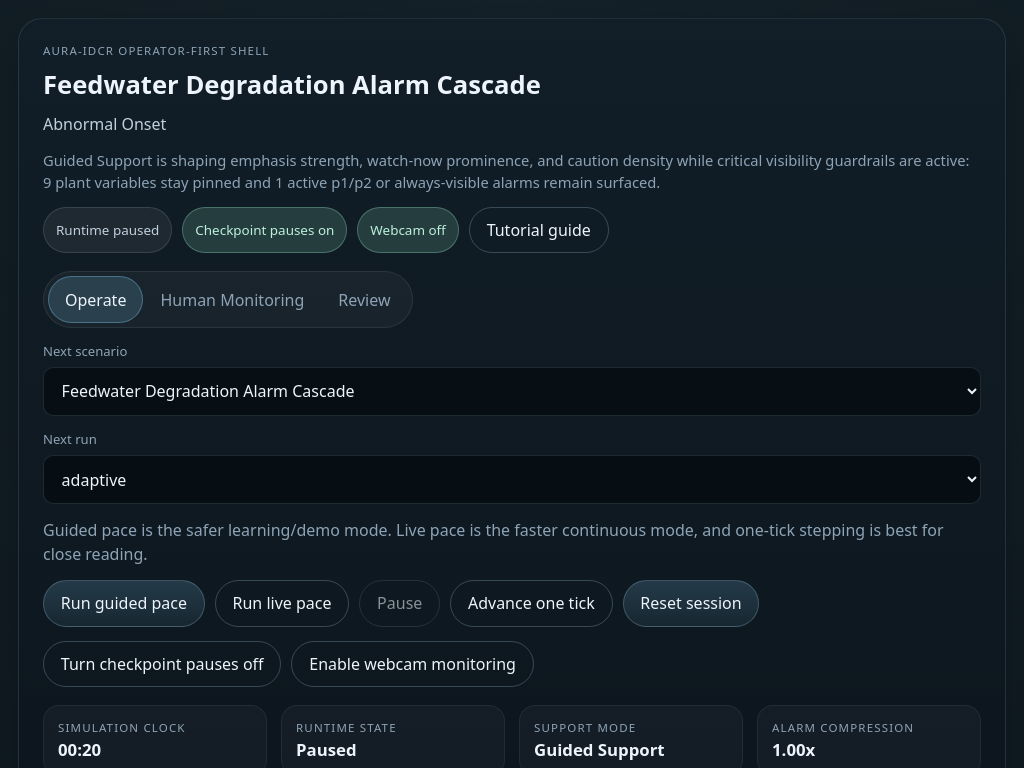
AuraSessionStore › surfaces stale and degraded monitoring signals in the isolated workspace
Click the tab "Human Monitoring". click: (232,300)
box: [143,276,321,323]
(page scrolled)
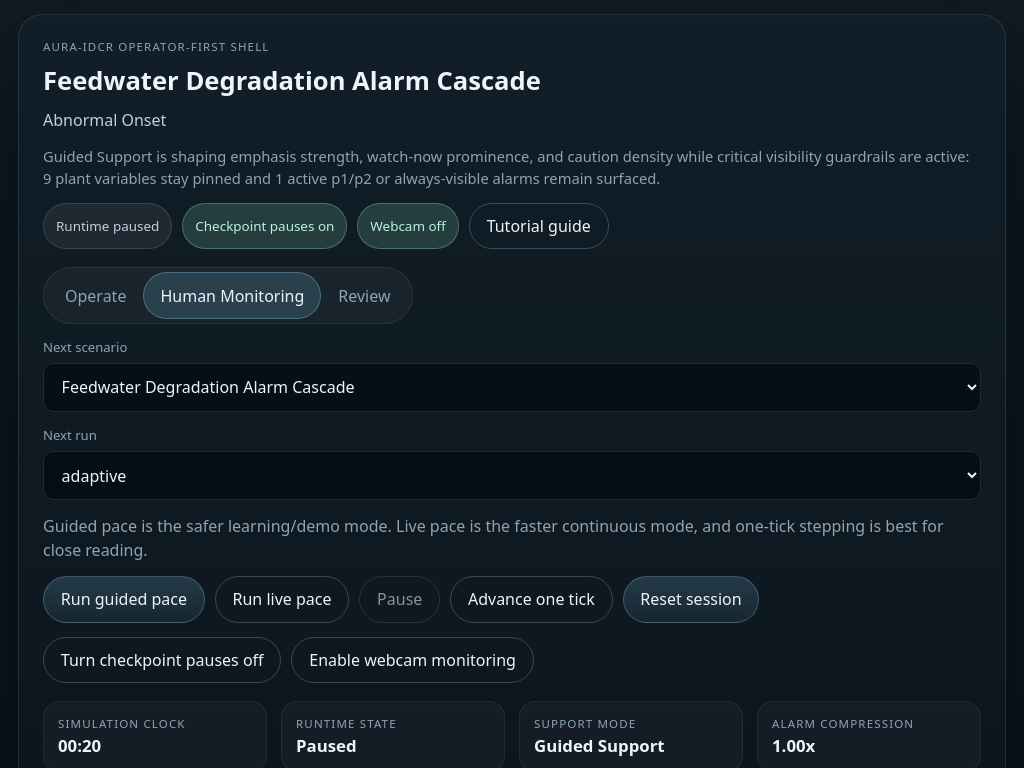
Now the text "camera_cv is stale" is shown, box [62,509,580,531]
Now the text "Freshness stale" is shown, box [58,317,152,335]
Now the text "Degraded state active" is shown, box [176,368,339,400]
